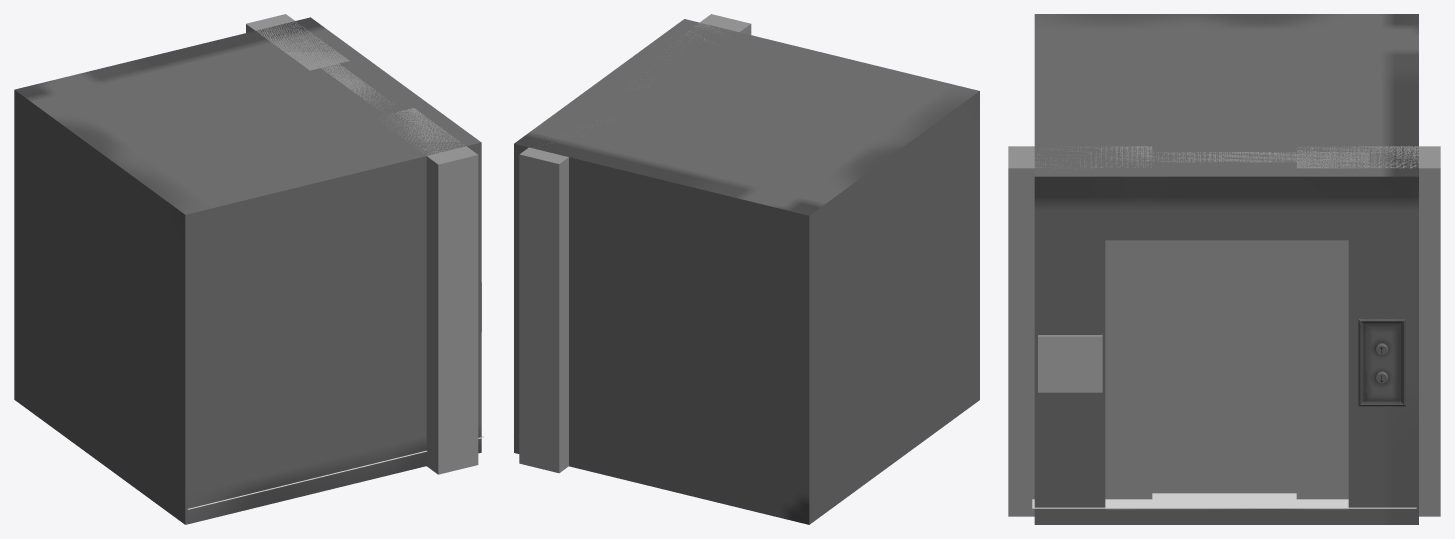
The model's file is elevator.fbx.
The picture shows the model from 3 angles, left to right: view 1: azimuth 30°, elevation 25°; view 2: azimuth 150°, elevation 25°; view 3: azimuth 270°, elevation 25°; orthographic projection. The views are drawn at different scales.
Parts seen in each view (by area): view 1: Body, Door Left Ouside, Door Right Outside, Door Right Inside; view 2: Body, Door Right Outside, Door Left Ouside; view 3: Body, Door Right Outside, Door Left Ouside, Door Right Inside, Door Left Inside, Outside Button Frame, Door, Floor.
Boxes of the visible parts, x1,y1,x2,y2 form: Body: (14,17,481,524); Door Left Ouside: (383,108,478,474); Door Right Outside: (246,14,349,70); Door Right Inside: (290,40,370,91); Body: (514,19,979,524); Door Right Outside: (519,123,601,473); Door Left Ouside: (664,14,751,52); Body: (1034,14,1418,524); Door Right Outside: (1296,146,1440,516); Door Left Ouside: (1008,146,1152,516); Door Right Inside: (1224,152,1368,493); Door Left Inside: (1080,152,1224,493); Outside Button Frame: (1358,318,1405,406); Door: (1038,335,1102,392); Floor: (1032,493,1416,508).
Size of the model in its own units: 823 by 804 by 900.
Materials: 18 (15 with a texture image).
